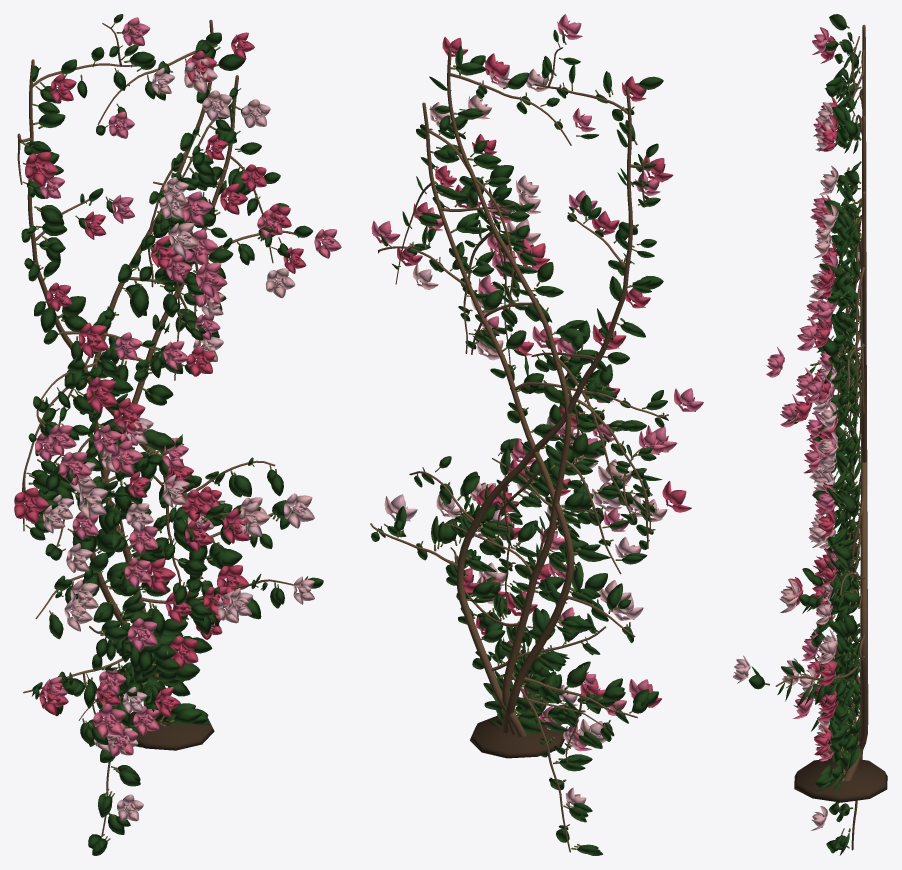
Rendered from climber_rose_30.glb.
The picture shows the model from 3 angles, left to right: view 1: azimuth 30°, elevation 25°; view 2: azimuth 150°, elevation 25°; view 3: azimuth 270°, elevation 25°; orthographic projection.
Parts seen in each view (by area): view 1: Sammel Pflanze, Sammel Holz, Sammel Putz; view 2: Sammel Pflanze, Sammel Holz, Sammel Putz; view 3: Sammel Pflanze, Sammel Holz, Sammel Putz.
Part boxes in pixels (bbox=[...]): Sammel Pflanze: bbox=[14, 14, 341, 855]; Sammel Holz: bbox=[17, 20, 299, 835]; Sammel Putz: bbox=[20, 23, 293, 841]; Sammel Pflanze: bbox=[371, 14, 703, 855]; Sammel Holz: bbox=[370, 47, 668, 852]; Sammel Putz: bbox=[376, 41, 664, 849]; Sammel Pflanze: bbox=[733, 14, 861, 855]; Sammel Holz: bbox=[775, 25, 868, 850]; Sammel Putz: bbox=[765, 26, 887, 848].
Bounding box in the file's own units: 1.3 × 3.22 × 0.5383.
